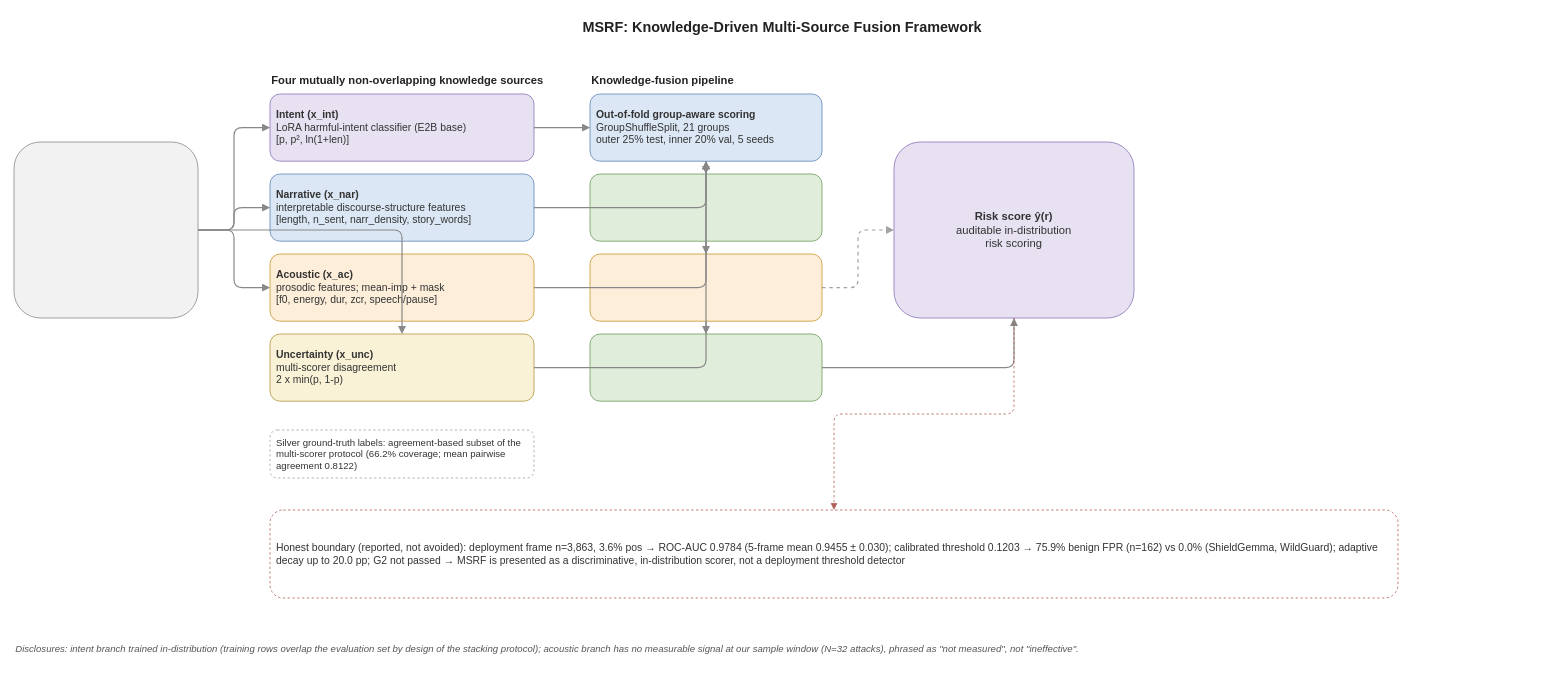
Some shapes in this 1564 by 683 pixel diagram are drawn without their labels. The shapes that lost their labels are listed below. From the top down, each one's box as (x1, y1, x2, y2) in pixels, then its label:
(589, 173, 822, 241): Isotonic calibration σ_i fit on training splits
(13, 141, 198, 318): Response r text & audio renderings of the same query
(589, 253, 822, 321): 225-parameter fusion MLP 4→16→8→1 ReLU (4x16+16)+(16x8+8)+(8x1+1) = 225
(589, 333, 822, 401): Operating threshold τ targets 5% FPR on deployment frame
